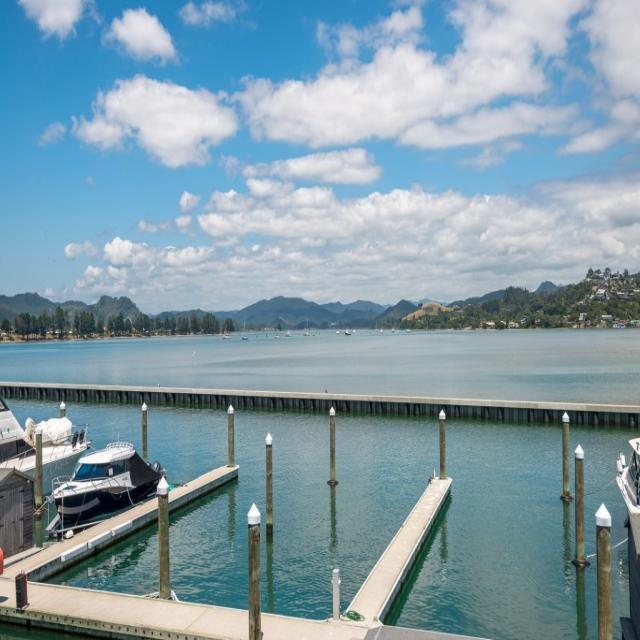houseboat: (43, 460, 175, 535)
